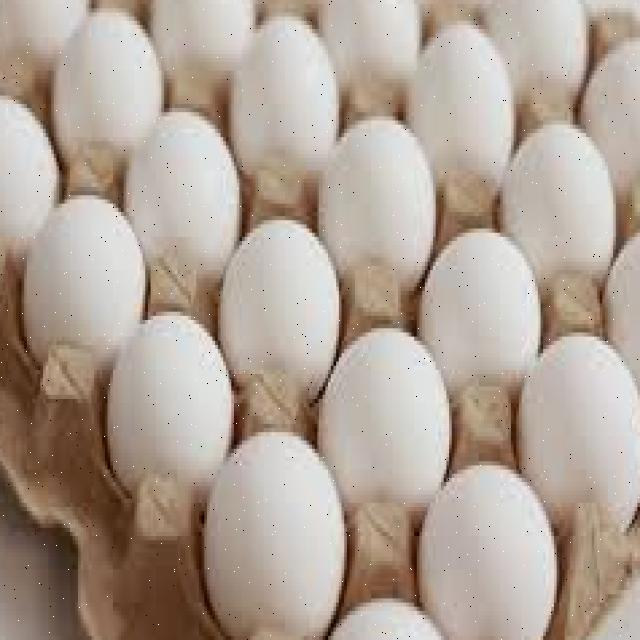Blood Stained Egg: (468, 324, 569, 632), (304, 456, 380, 545)
White Egg: (187, 437, 346, 625), (213, 216, 363, 406), (107, 310, 247, 503), (299, 124, 447, 304), (424, 237, 542, 396), (327, 332, 445, 490)
